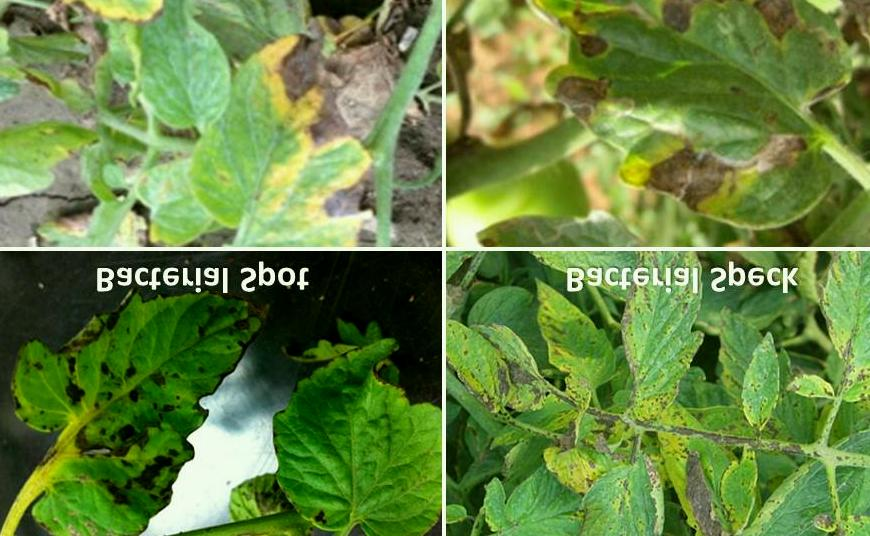Tomato Early blight leaf: (7, 0, 388, 236)
Tomato leaf bacterial spot: (7, 270, 264, 536), (245, 309, 440, 536), (695, 414, 870, 536), (604, 256, 711, 444), (780, 259, 870, 412), (561, 438, 675, 536), (729, 334, 800, 451), (714, 453, 765, 536)
